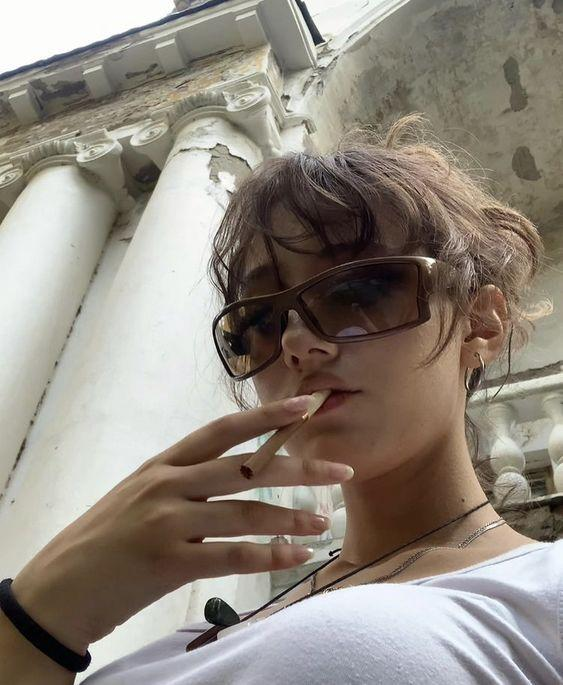cigarette: (238, 387, 334, 481)
